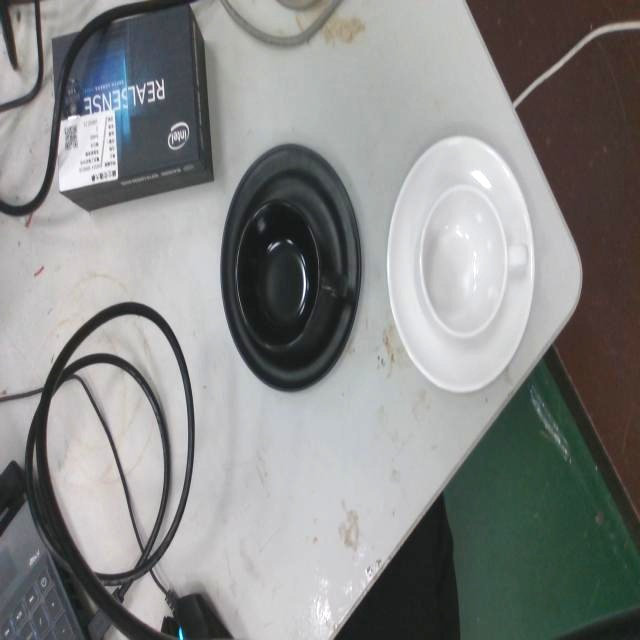black: (217, 137, 365, 400)
white: (384, 129, 538, 400)
